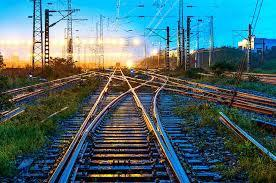track: (47, 67, 189, 183), (56, 74, 191, 183), (105, 74, 276, 115), (151, 72, 276, 103), (2, 71, 103, 101)
